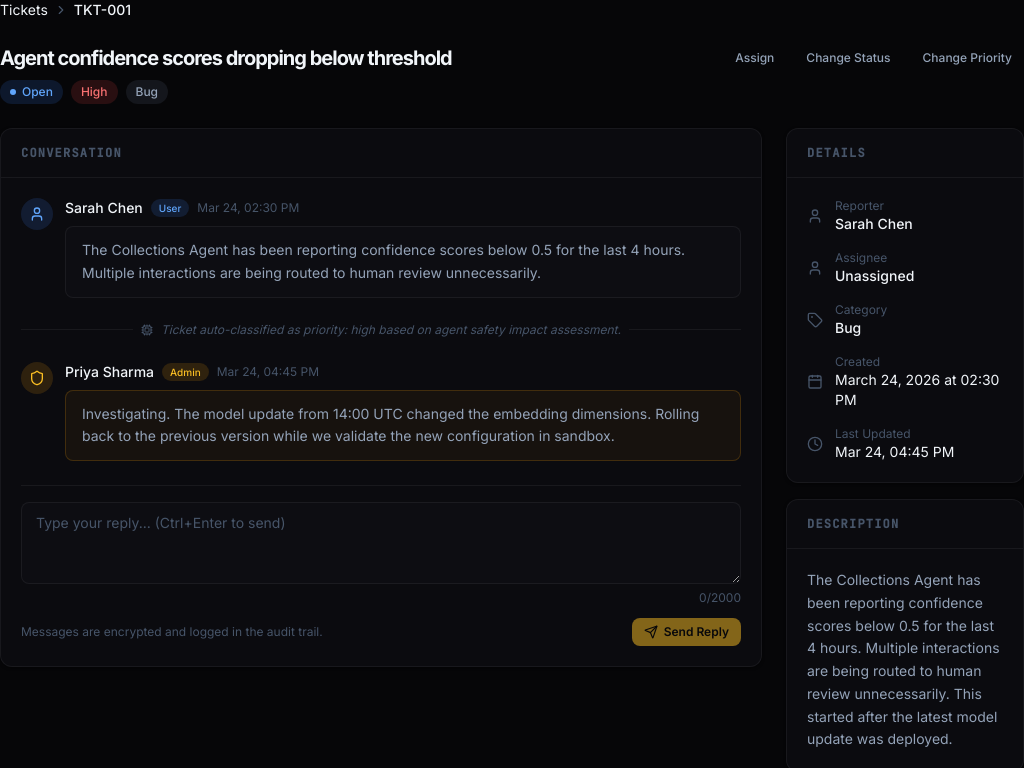
it: TicketDetail › opens assign modal
Step 1. Click the button "Assign" → {"x": 755, "y": 58}, box [723,44,786,72]
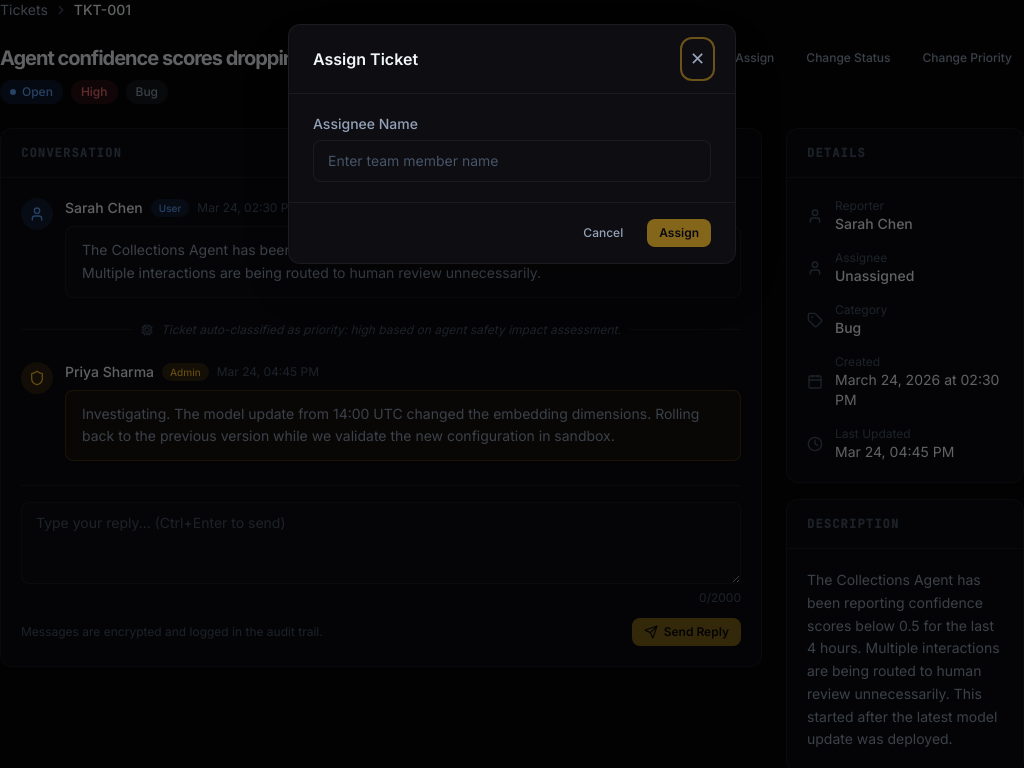
Now the heading "Assign Ticket" is shown, box [313,47,418,71]
Now the field with placeholder "Enter team member name" is shown, box [313,140,711,182]
